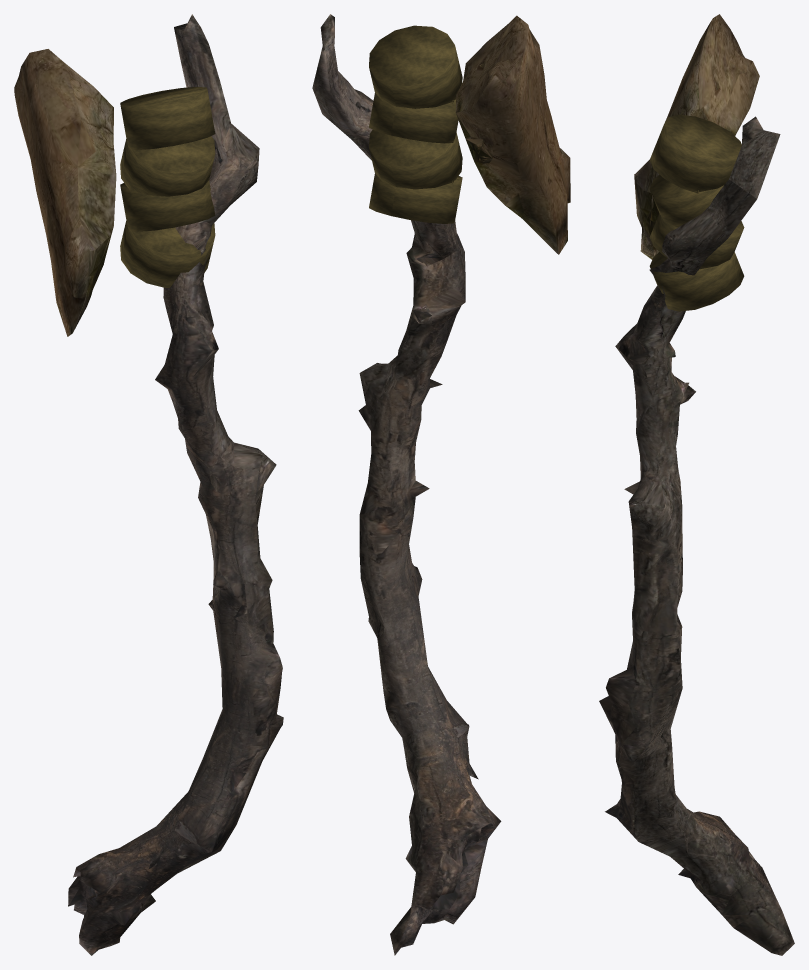
The model's file is SM_StoneAxe.fbx.
3 views of the same model, side by side, from view 1: azimuth 30°, elevation 25°; view 2: azimuth 150°, elevation 25°; view 3: azimuth 270°, elevation 25° (orthographic). The views are drawn at different scales.
Visible parts, largest first — view 1: SM_StoneAxe; view 2: SM_StoneAxe; view 3: SM_StoneAxe.
Boxes of the visible parts, left/top/right/bottom form: SM_StoneAxe: left=14, top=14, right=283, bottom=955; SM_StoneAxe: left=312, top=14, right=570, bottom=955; SM_StoneAxe: left=599, top=14, right=794, bottom=955.
Bounding box in the file's own units: 0.1651 × 0.6965 × 0.1378.
